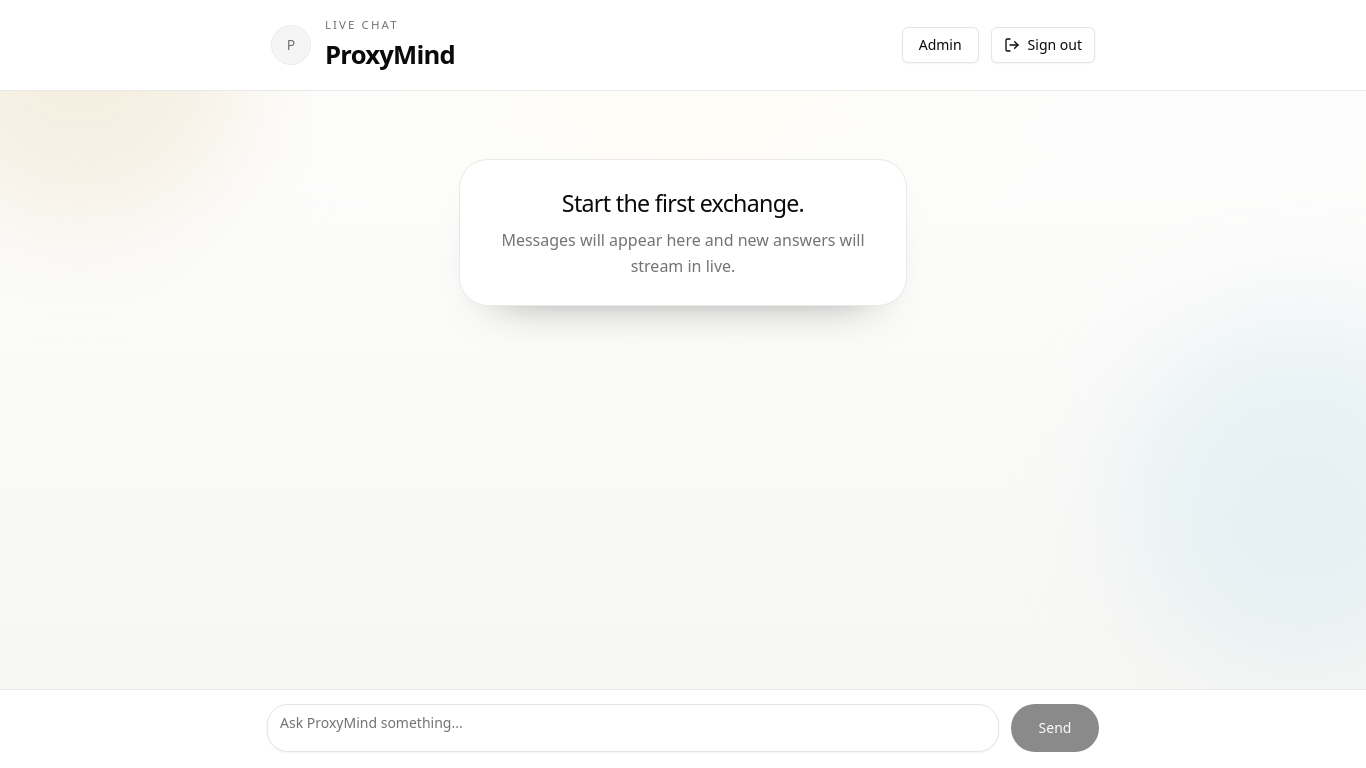
Test case: ChatPage integration › preserves partial content and shows connection lost when the stream drops
The image size is (1366, 768).
Type "Keep going" into the text box labelled "Ask ProxyMind something..." at (633, 728), box [267,704,999,752]
Then press Enter
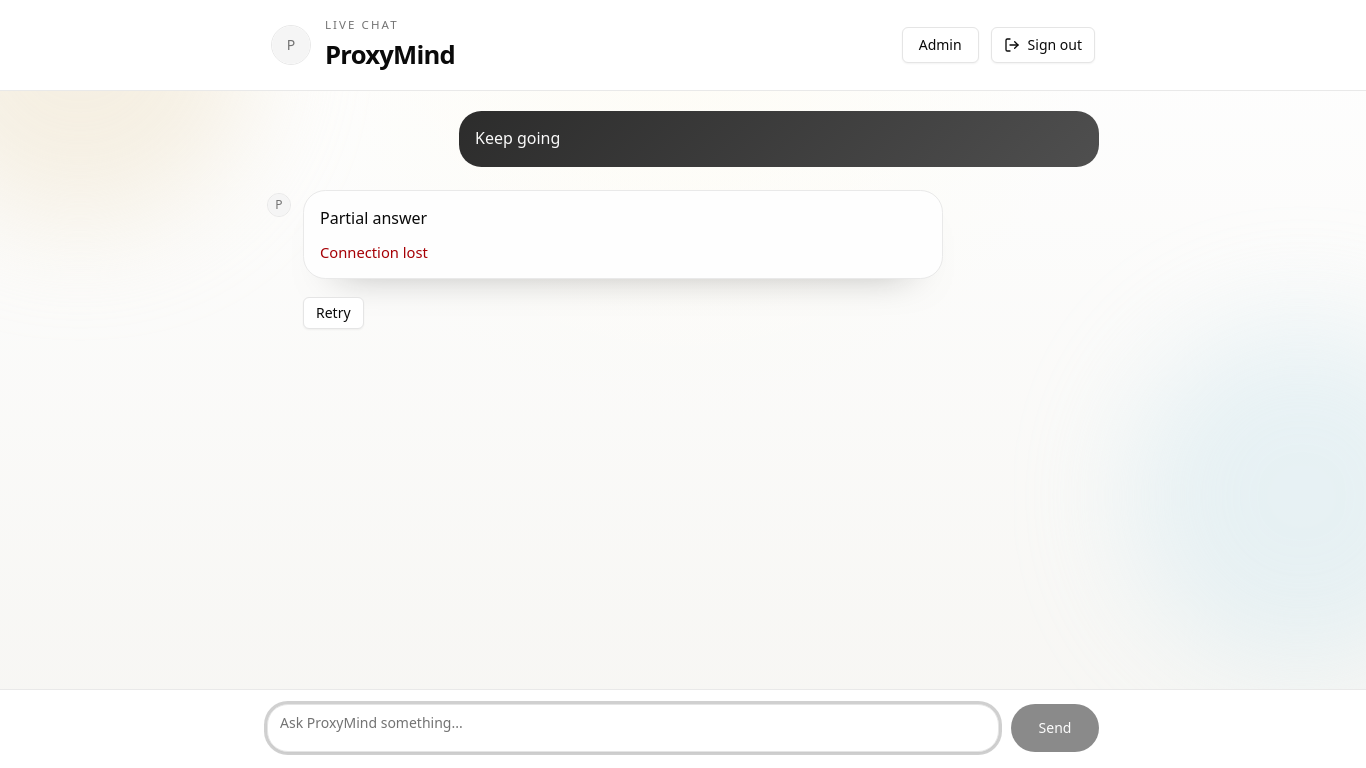
Result: the text "Partial answer" is shown at [320,207,427,229]
Result: the text "Connection lost" is shown at [320,242,428,262]
Result: the button "Retry" is shown at [303,297,364,329]
